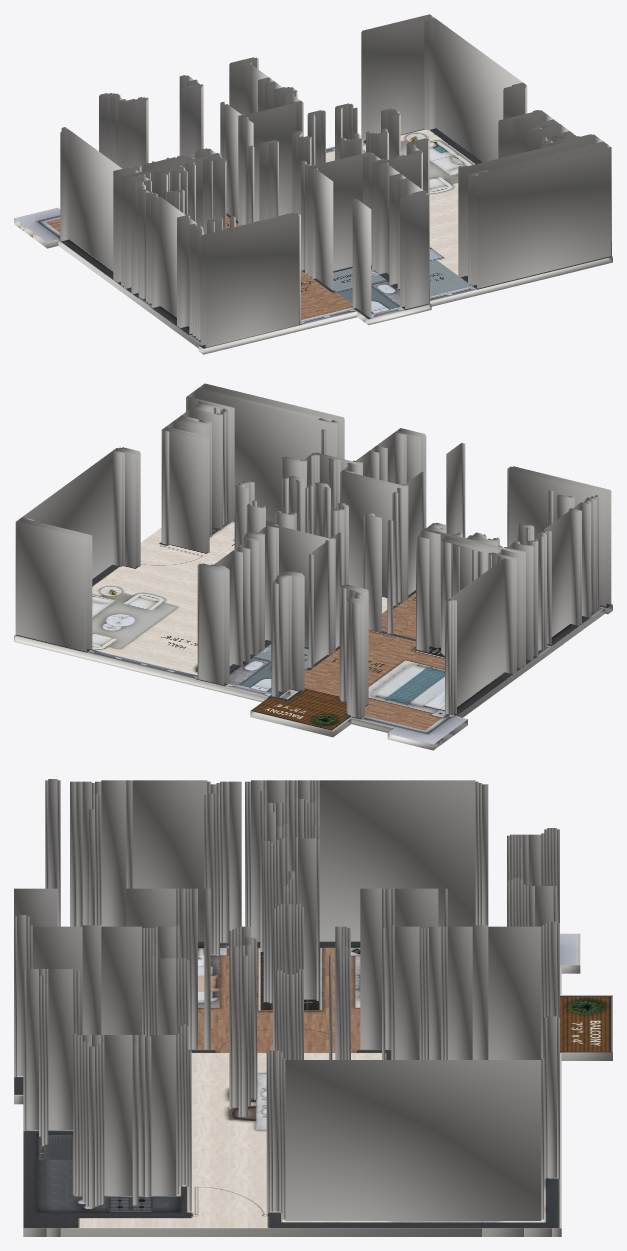
The model's file is SPR_unit_C_conceptual.glb.
3 renders of one model, top to bottom at view 1: azimuth 30°, elevation 25°; view 2: azimuth 150°, elevation 25°; view 3: azimuth 270°, elevation 25°, orthographic. The views are drawn at different scales.
Parts seen in each view (by area): view 1: UnitC_walls_from_plan, UnitC_floor_brochure_plan, UnitC_slab; view 2: UnitC_walls_from_plan, UnitC_floor_brochure_plan, UnitC_slab; view 3: UnitC_walls_from_plan, UnitC_floor_brochure_plan, UnitC_slab.
Boxes of the visible parts, x1=… form: UnitC_walls_from_plan: x1=60, y1=14, x2=611, y2=347; UnitC_floor_brochure_plan: x1=14, y1=128, x2=612, y2=348; UnitC_slab: x1=14, y1=218, x2=612, y2=354; UnitC_walls_from_plan: x1=15, y1=383, x2=611, y2=718; UnitC_floor_brochure_plan: x1=14, y1=520, x2=612, y2=744; UnitC_slab: x1=14, y1=605, x2=612, y2=750; UnitC_walls_from_plan: x1=14, y1=779, x2=559, y2=1220; UnitC_floor_brochure_plan: x1=14, y1=933, x2=612, y2=1228; UnitC_slab: x1=14, y1=965, x2=612, y2=1236.
Size of the model in its own units: 11.35 by 3.05 by 9.75.
3 materials, 1 textured.
